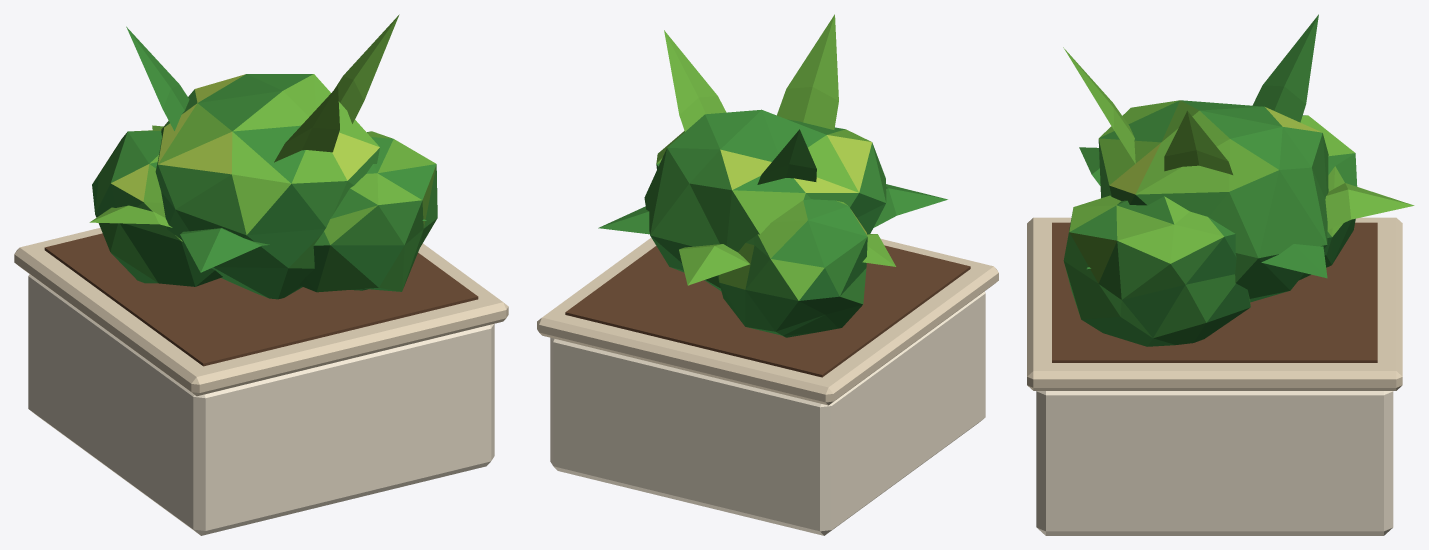
File: planter_square.glb
3 renders of one model, left to right at view 1: azimuth 30°, elevation 25°; view 2: azimuth 150°, elevation 25°; view 3: azimuth 270°, elevation 25°, orthographic. The views are drawn at different scales.
Visible parts, largest first — view 1: body; view 2: body; view 3: body.
Boxes of the visible parts, <box> form: body: <box>14,14,508,535</box>; body: <box>537,14,998,535</box>; body: <box>1027,14,1414,535</box>.
Size of the model in its own units: 1.2 by 1.48 by 1.24.
